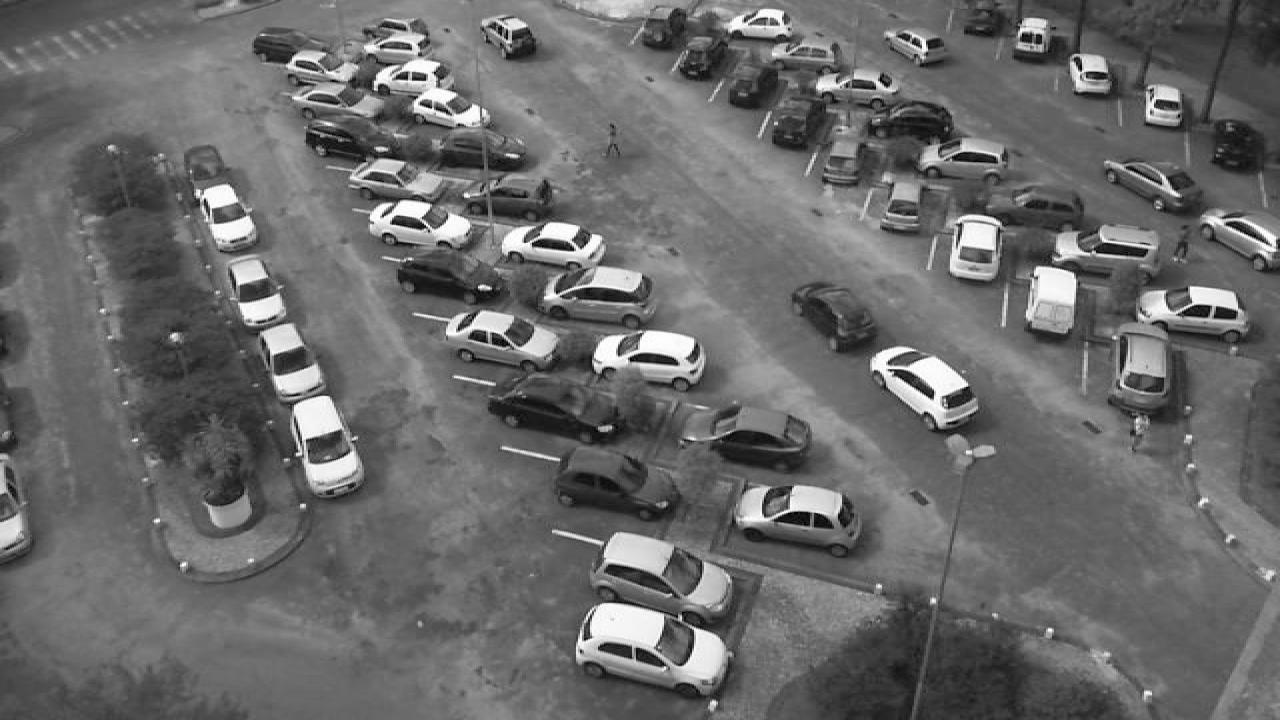Car: (574, 602, 734, 697), (586, 530, 738, 623), (732, 480, 868, 558), (866, 345, 984, 431), (676, 401, 816, 472), (550, 448, 682, 522), (488, 372, 622, 444), (288, 395, 368, 498), (536, 264, 660, 328), (442, 308, 562, 372), (590, 328, 708, 393), (1134, 285, 1254, 343), (790, 281, 882, 353), (396, 246, 510, 304), (1098, 157, 1208, 213), (1050, 222, 1162, 276), (1108, 325, 1176, 413), (500, 219, 608, 274), (368, 199, 474, 252), (258, 322, 328, 400), (1198, 205, 1280, 271), (344, 156, 448, 204), (222, 256, 290, 328), (982, 182, 1086, 229), (464, 173, 558, 222), (1020, 263, 1080, 339), (196, 183, 262, 252), (916, 135, 1012, 181), (944, 214, 1006, 284), (432, 128, 530, 172), (302, 114, 396, 158), (864, 101, 958, 142), (814, 70, 904, 110), (370, 57, 460, 96), (288, 83, 386, 118), (0, 454, 32, 560), (408, 88, 490, 129), (280, 48, 362, 88), (1210, 117, 1268, 170), (768, 98, 826, 150), (180, 143, 236, 196), (478, 14, 540, 60), (768, 38, 844, 74), (250, 28, 326, 63), (670, 34, 726, 81), (722, 8, 798, 42), (882, 28, 950, 65), (878, 181, 924, 235), (1138, 84, 1192, 130), (722, 64, 776, 109), (638, 4, 690, 50), (818, 135, 864, 186), (358, 35, 432, 66), (1066, 53, 1116, 97), (1012, 16, 1052, 60), (364, 15, 430, 40), (962, 0, 1000, 35)
